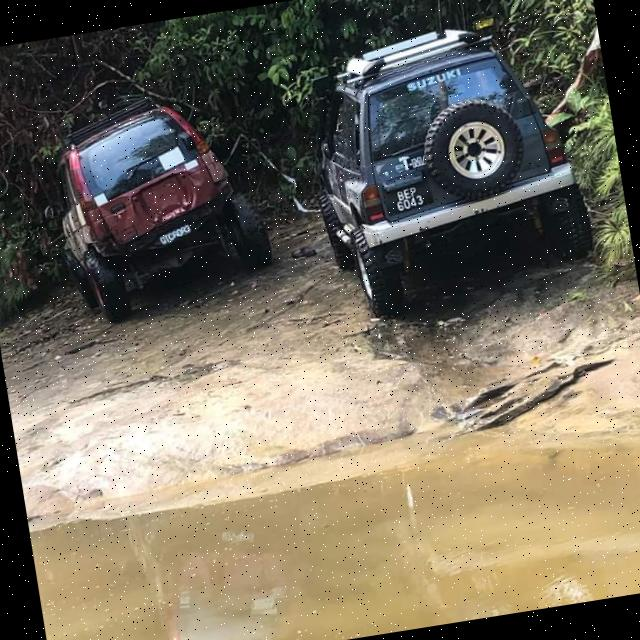License_Plate: (385, 181, 437, 221), (155, 223, 194, 248)
car: (296, 1, 614, 320), (39, 80, 290, 328)
